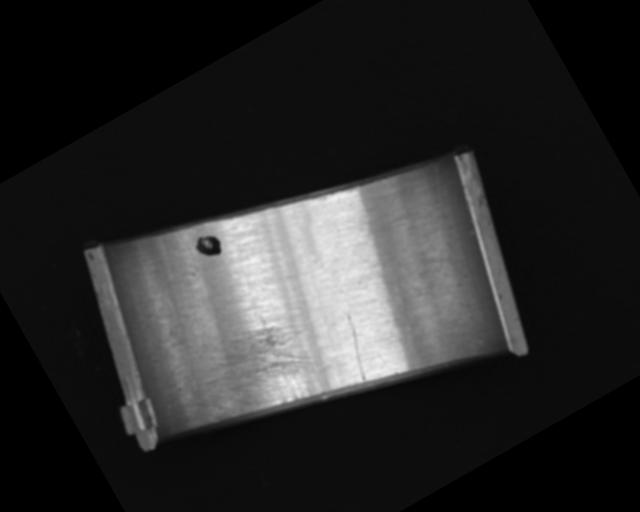blot: (191, 229, 226, 264)
nick: (391, 160, 484, 272), (329, 309, 383, 381)
scratch: (179, 305, 332, 451)
